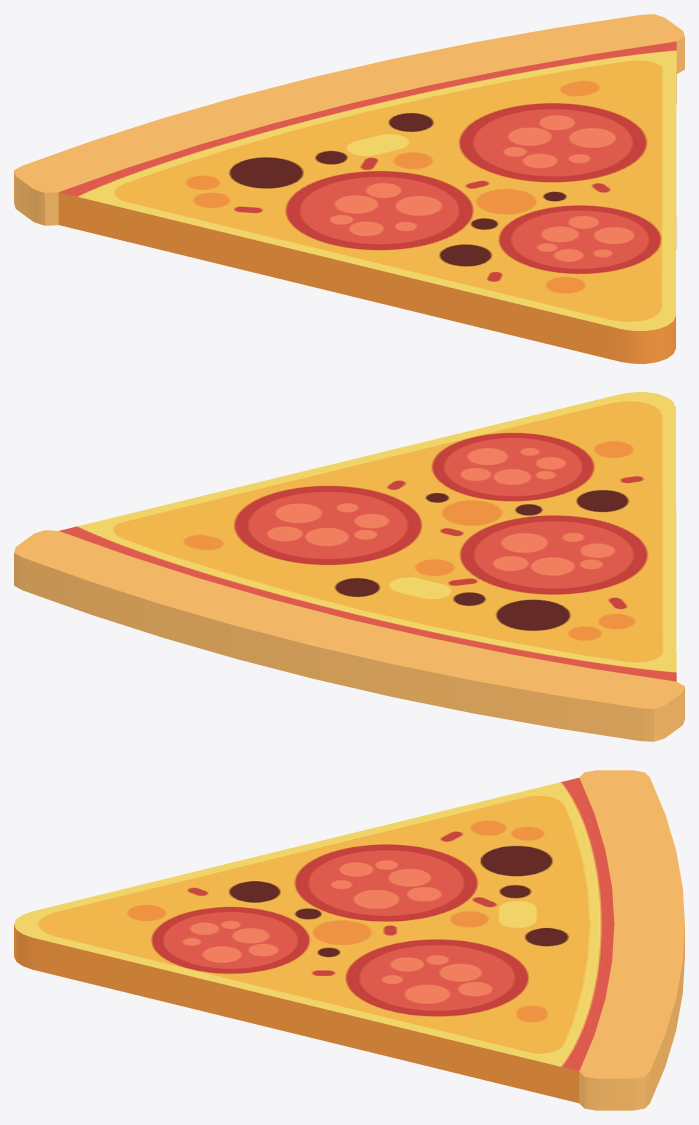
The model's file is Pizza_Slice_Meat_Feast_0.glb.
3 renders of one model, top to bottom at view 1: azimuth 30°, elevation 25°; view 2: azimuth 150°, elevation 25°; view 3: azimuth 270°, elevation 25°, orthographic. The views are drawn at different scales.
Parts seen in each view (by area): view 1: Pizza_Slice_Meat_Feast_0; view 2: Pizza_Slice_Meat_Feast_0; view 3: Pizza_Slice_Meat_Feast_0.
Part boxes in pixels (x1,y1,x2,y2): Pizza_Slice_Meat_Feast_0: [14, 14, 684, 363]; Pizza_Slice_Meat_Feast_0: [14, 392, 684, 741]; Pizza_Slice_Meat_Feast_0: [14, 770, 684, 1110].
Size of the model in its own units: 0.2067 by 0.01 by 0.1899.
1 material, 1 textured.
